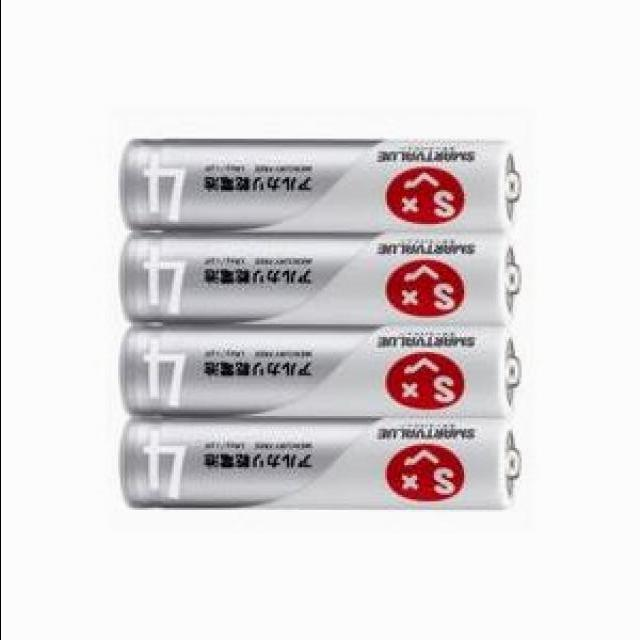AAA: (106, 228, 532, 326), (121, 411, 524, 514), (115, 323, 534, 417), (119, 137, 526, 230)
